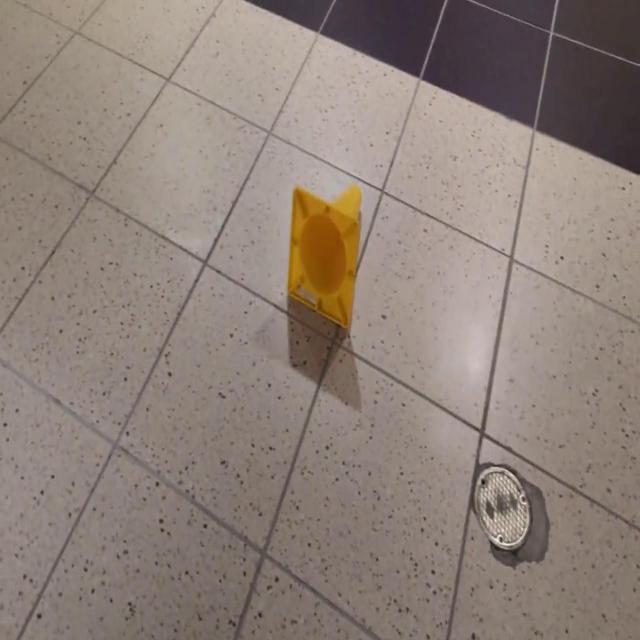frc_cone: (288, 182, 362, 334)
